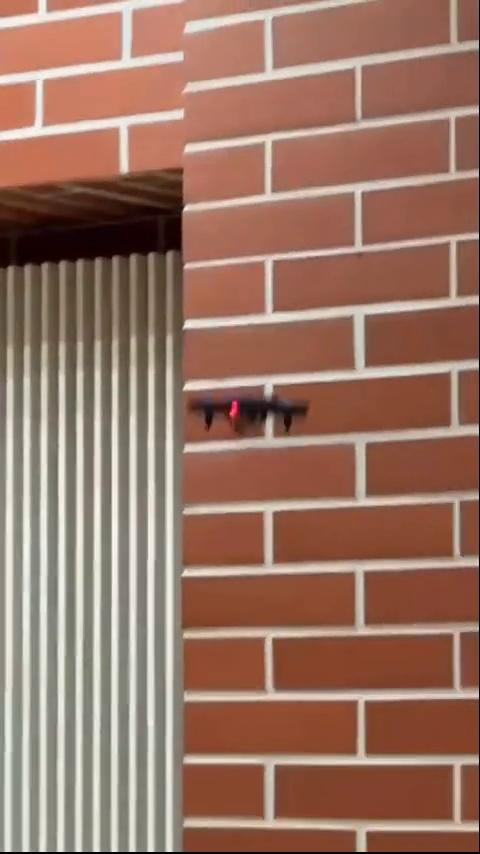drone: (179, 384, 317, 433)
